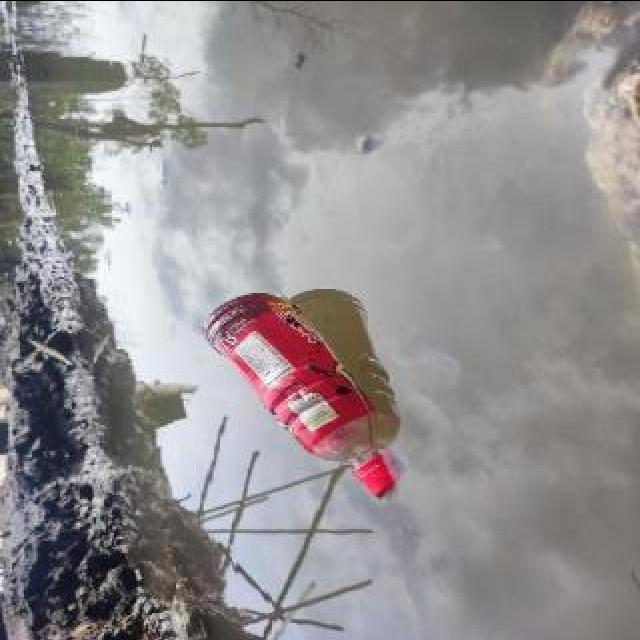Bottle: (195, 291, 401, 501)
